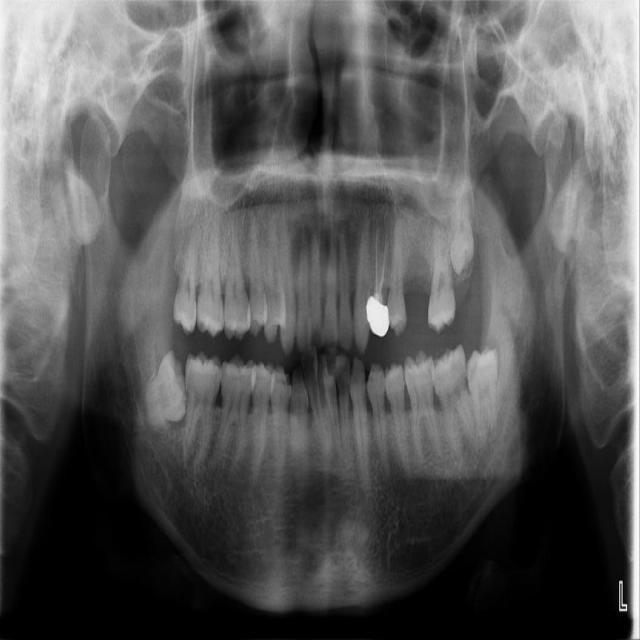Crown: (366, 294, 389, 337)
Missing teeth: (405, 278, 434, 324)
Root Canal Treatment: (376, 229, 379, 282), (382, 259, 385, 282), (385, 237, 387, 259)
impacted tooth: (141, 352, 186, 433), (466, 348, 498, 438), (448, 178, 474, 270)
